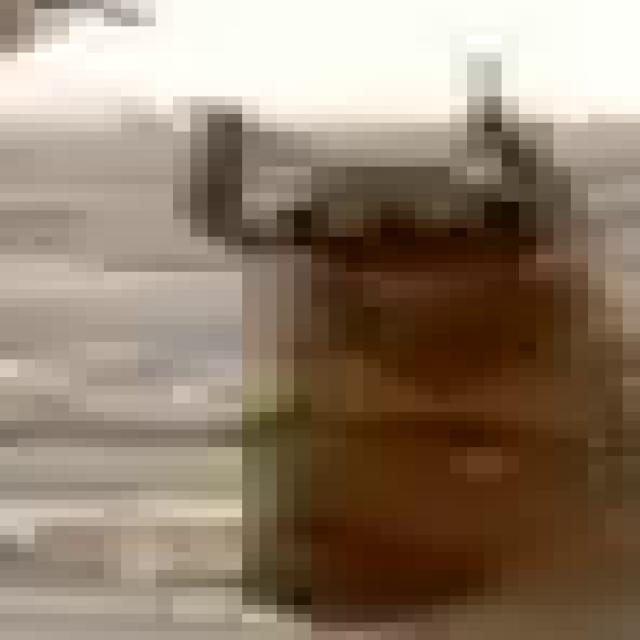honeybee: (155, 52, 640, 631)
